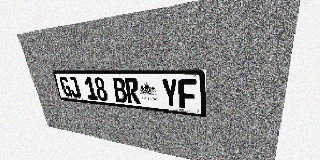1: (83, 77, 98, 100)
8: (93, 77, 108, 101)
B: (112, 77, 128, 103)
F: (178, 79, 197, 110)
G: (59, 76, 73, 97)
J: (67, 76, 81, 98)
R: (124, 78, 141, 104)
Y: (161, 78, 179, 108)
